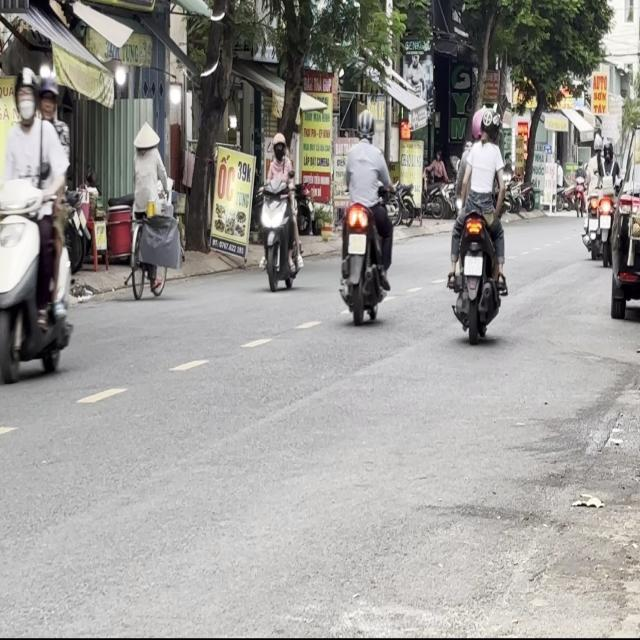helmet: (12, 65, 39, 124), (36, 70, 59, 120), (356, 110, 374, 144), (481, 106, 498, 142), (471, 106, 486, 142), (272, 132, 287, 160)
licenseplate: (0, 63, 74, 386), (446, 105, 508, 342), (336, 106, 393, 324), (258, 130, 304, 293)
nohelmet: (464, 256, 482, 276), (348, 234, 365, 254)
